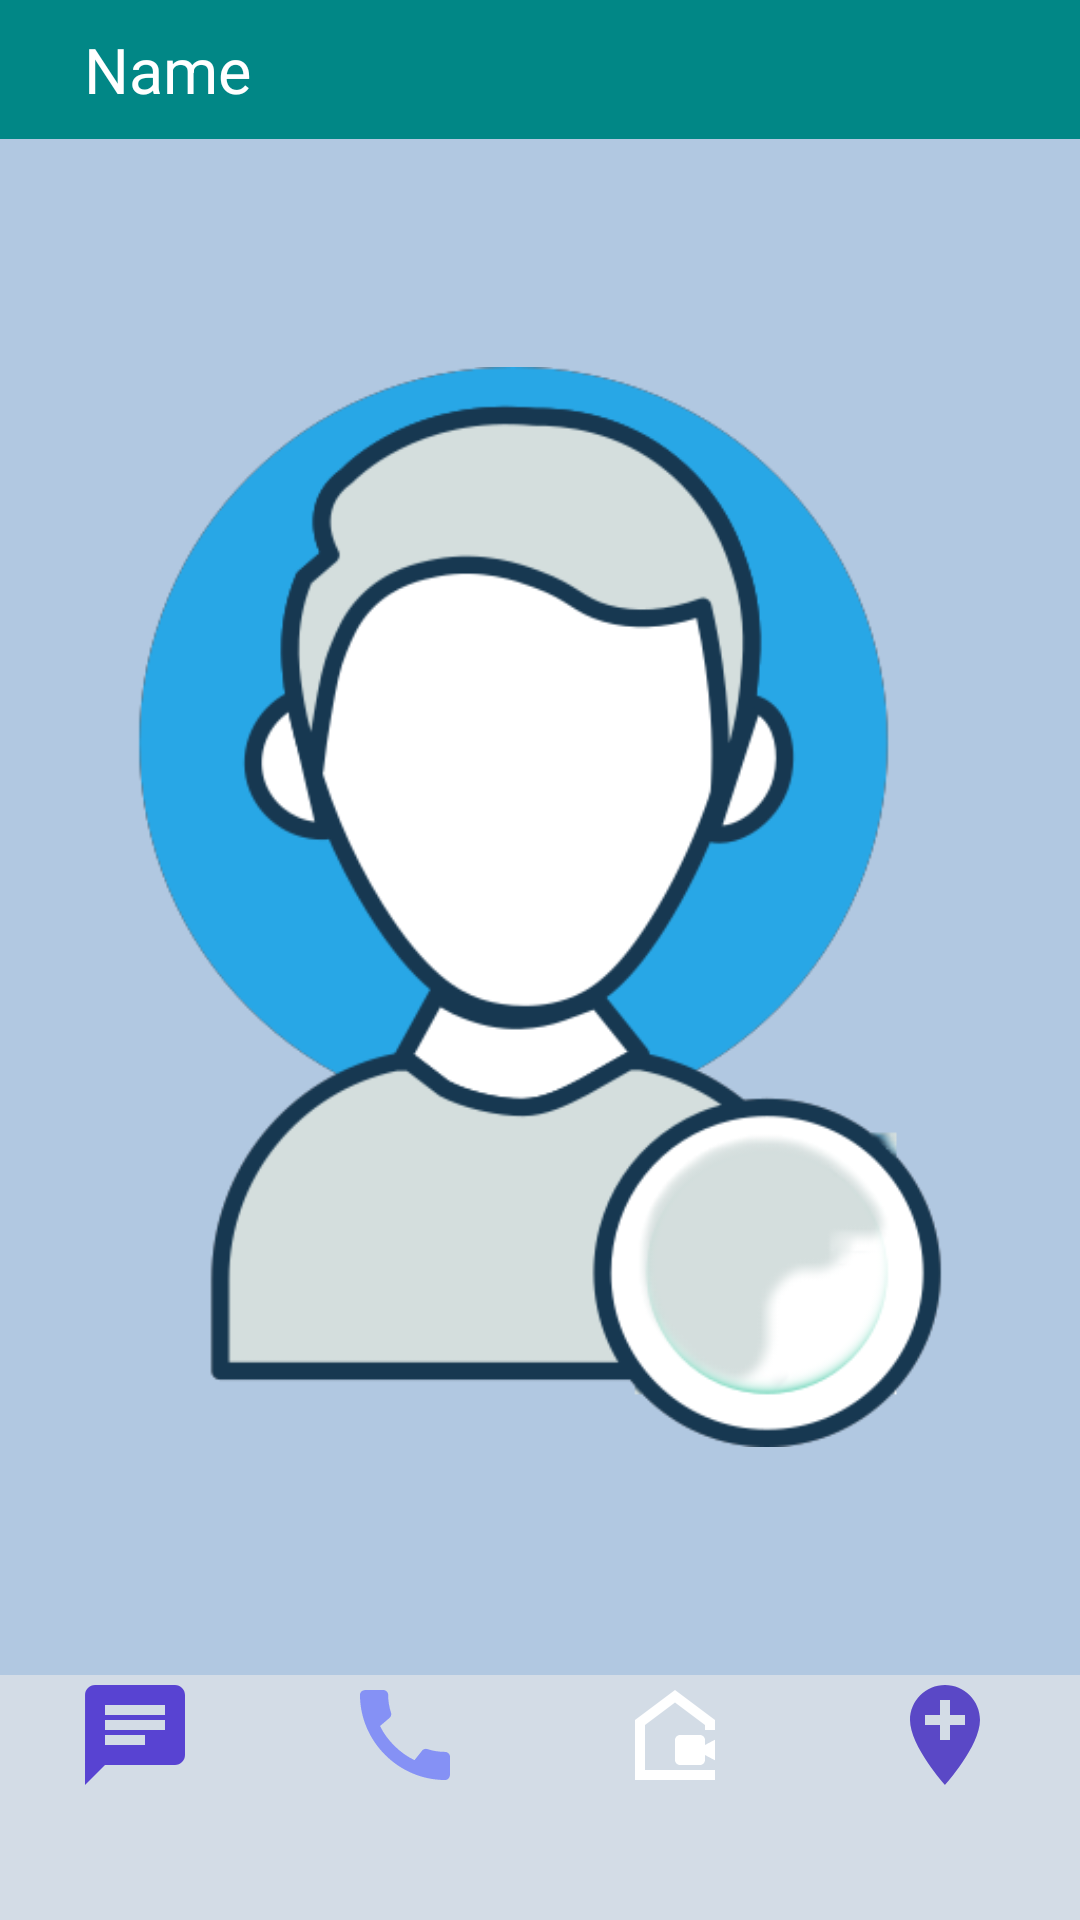

Icons on this 1080px×1920px Android screen, each with its box as (x1, y1, x2, y2):
add location: (910, 1685, 980, 1785)
call: (360, 1690, 450, 1780)
chat: (85, 1685, 185, 1785)
